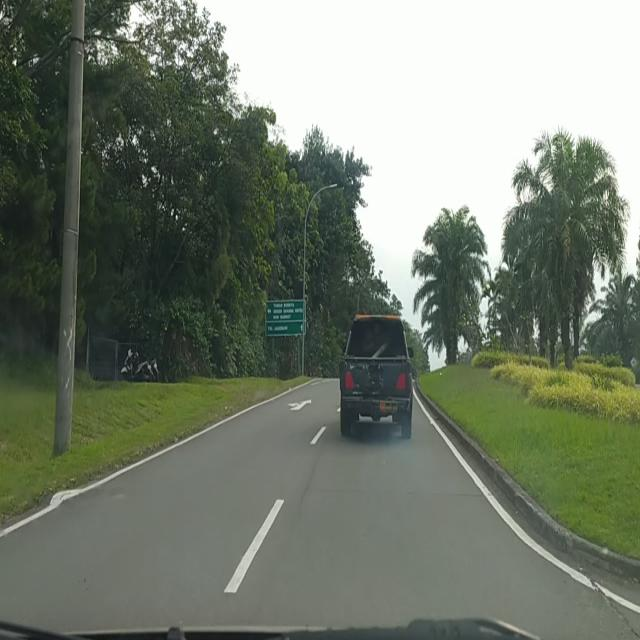Sewer Cover: (298, 476, 486, 499)
